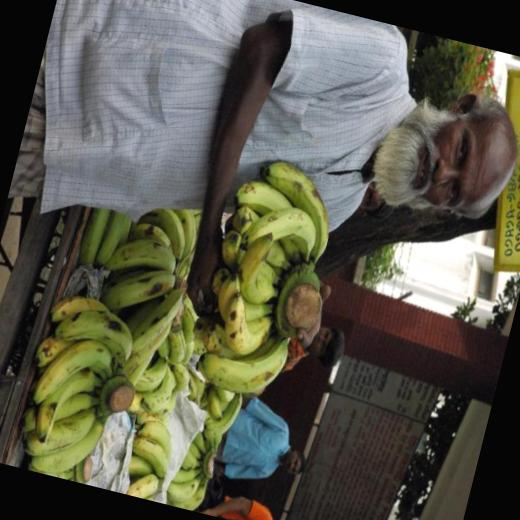Banana: (8, 112, 353, 520), (178, 142, 354, 412)
